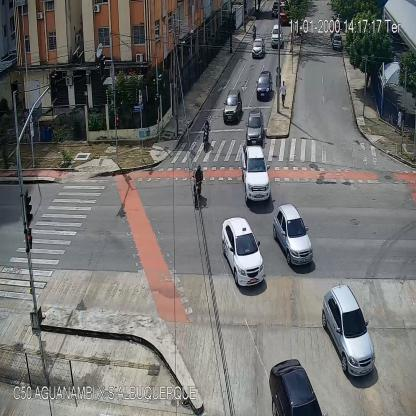car: (322, 285, 376, 378), (270, 358, 326, 416), (221, 218, 266, 288), (273, 204, 313, 265), (241, 141, 270, 199), (246, 108, 265, 144), (223, 90, 241, 123), (256, 70, 272, 98), (251, 38, 266, 60), (271, 25, 283, 47), (332, 34, 342, 50), (272, 4, 278, 17)
motorbike: (194, 166, 203, 210), (202, 117, 210, 153), (252, 25, 257, 42)
person: (396, 108, 404, 136), (280, 80, 286, 108)
truck: (280, 6, 289, 22)
